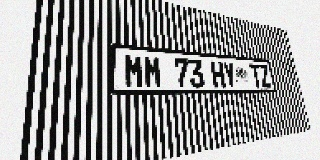3: (188, 59, 205, 88)
7: (173, 58, 190, 88)
H: (210, 61, 226, 88)
M: (124, 54, 144, 88), (143, 55, 162, 88)
T: (249, 64, 263, 88)
Y: (222, 62, 237, 88)
Z: (259, 65, 272, 88)
